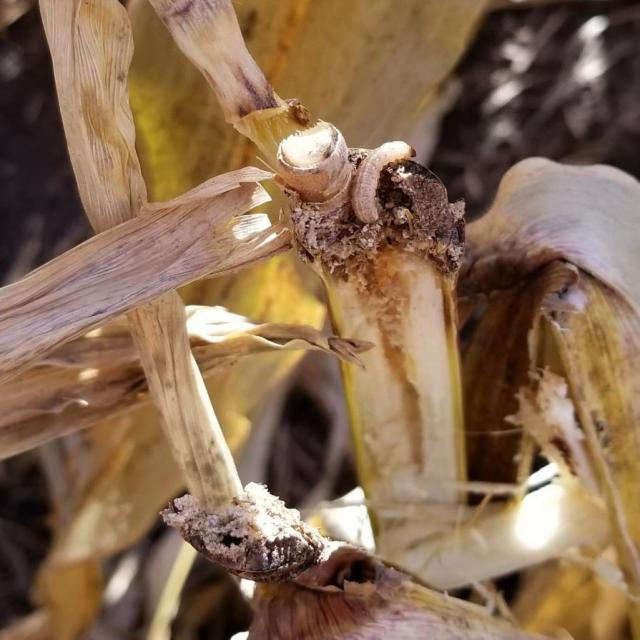cornborer-Larva-: (349, 140, 419, 229)
